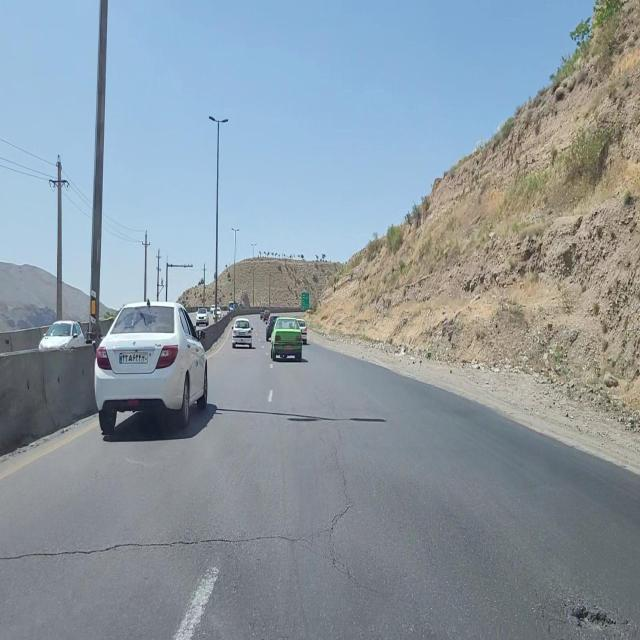GRIETA: (0, 535, 301, 561), (329, 454, 379, 592), (570, 607, 623, 629)
